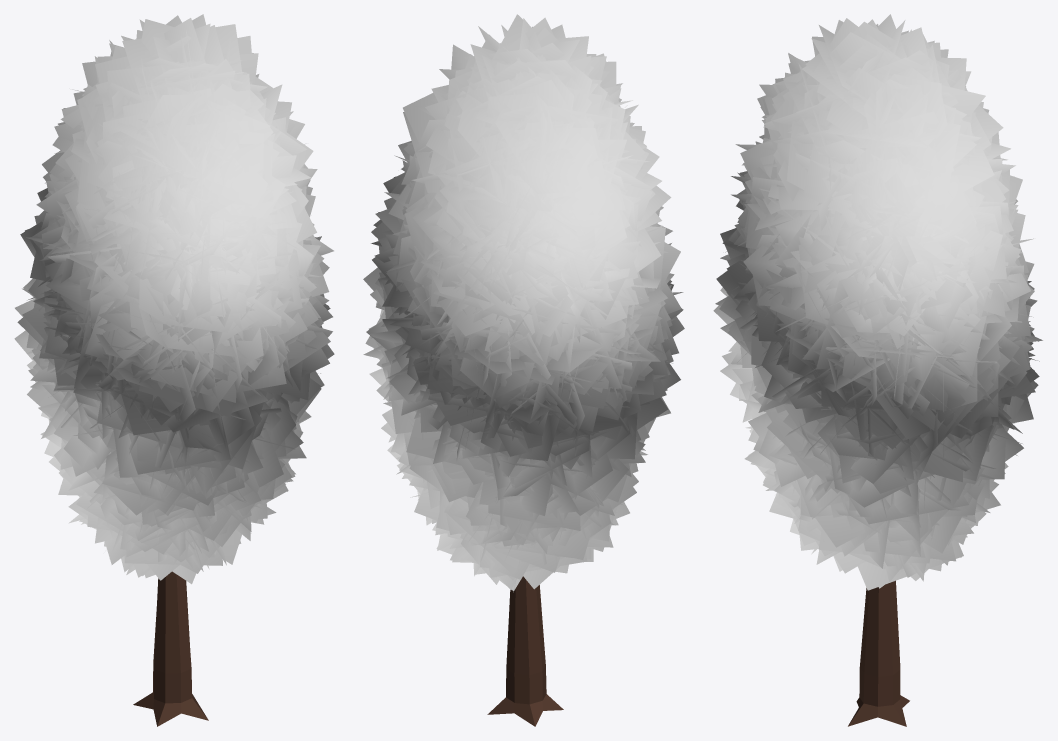
Rendered from tree7.fbx.
3 views of the same model, side by side, from view 1: azimuth 30°, elevation 25°; view 2: azimuth 150°, elevation 25°; view 3: azimuth 270°, elevation 25° (orthographic).
Parts seen in each view (by area): view 1: Plane.003; view 2: Plane.003; view 3: Plane.003.
Part boxes in pixels (x1=…): Plane.003: x1=14, y1=14, x2=334, y2=726; Plane.003: x1=363, y1=14, x2=684, y2=726; Plane.003: x1=713, y1=14, x2=1042, y2=726.
Size of the model in its own units: 859 by 2020 by 863.
